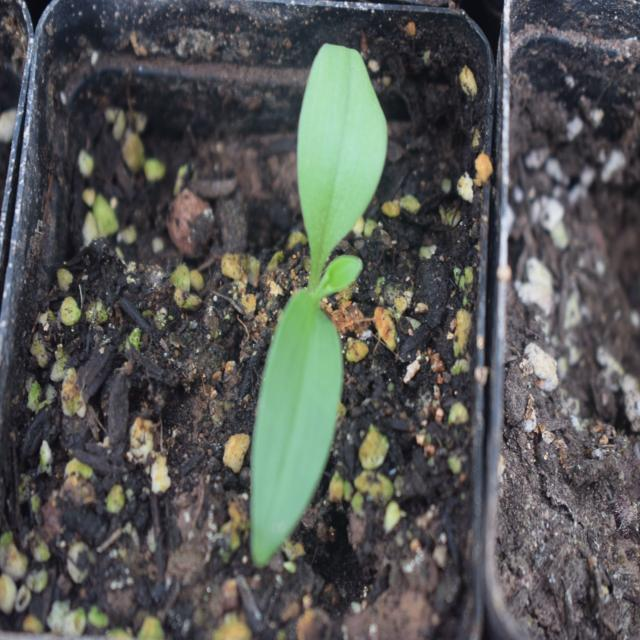Common Dayflower: (248, 50, 385, 571)
